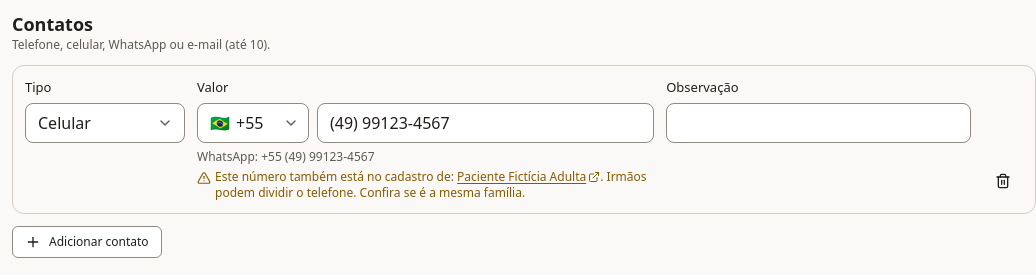
Scenario: ListaDeContatos — o número que já está em outro paciente › não deve perguntar duas vezes pelo mesmo número escrito de outro jeito
Check: the link "Paciente Fictícia Adulta" is shown, box [457,169,600,185]
Replace the text in the field labelled "Valor" with "49991234567" at (486, 123), box [317,103,654,143]
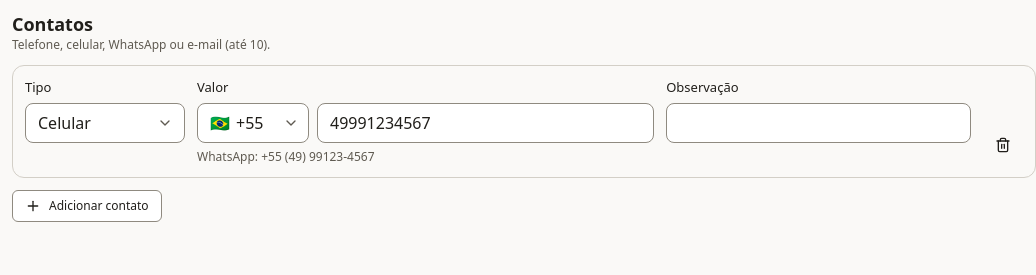
Leave the field labelled "Valor", box [317,103,654,143]
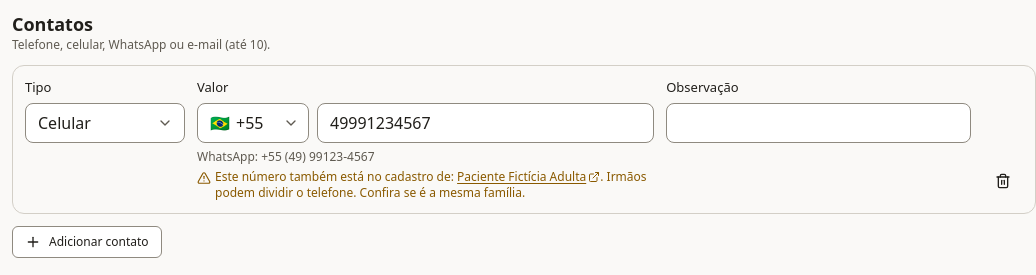
Check: the link "Paciente Fictícia Adulta" is shown, box [457,169,600,185]
